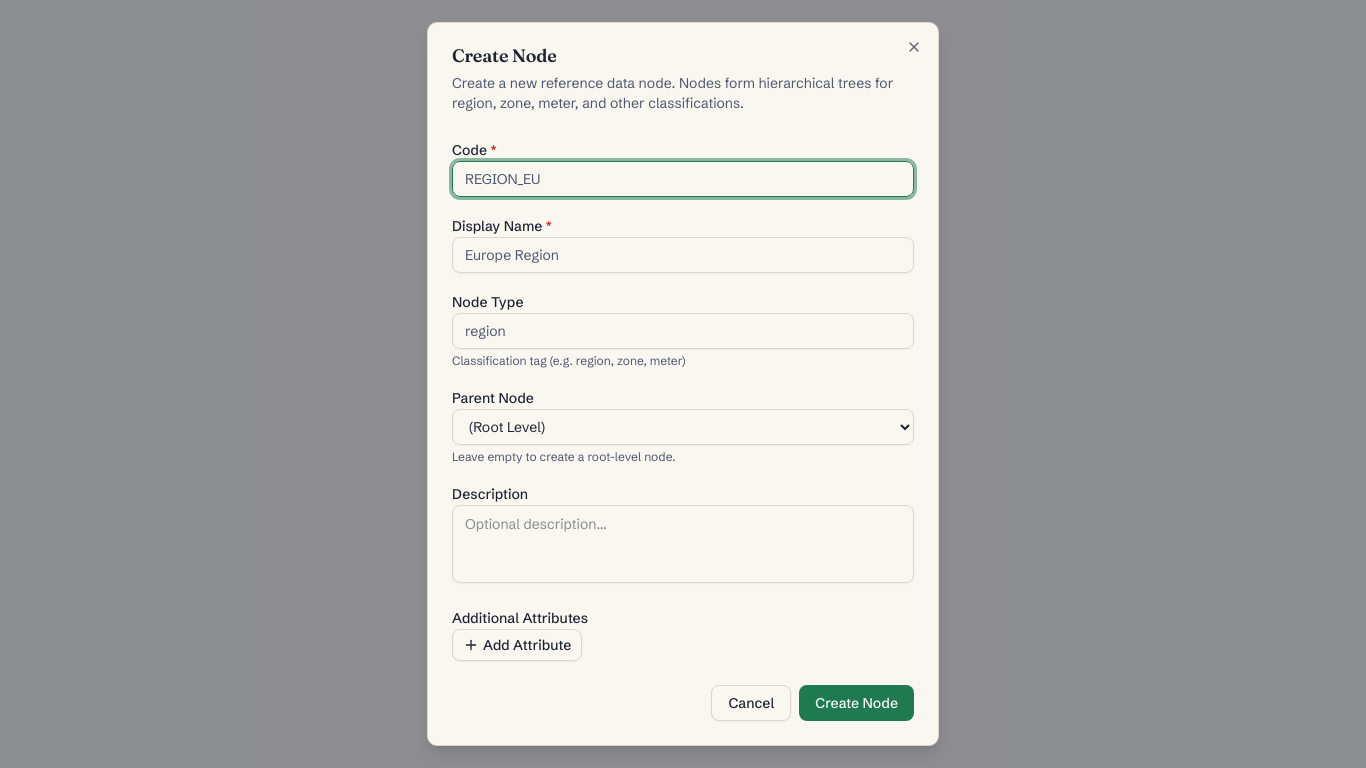
Test: CreateNodeDialog - validation › shows error when code is too short
This screenshot has width=1366, height=768.
Type "A" into the field labelled "Code *".
click(683, 179); type("A")  # box x1=452 y1=161 x2=914 y2=197
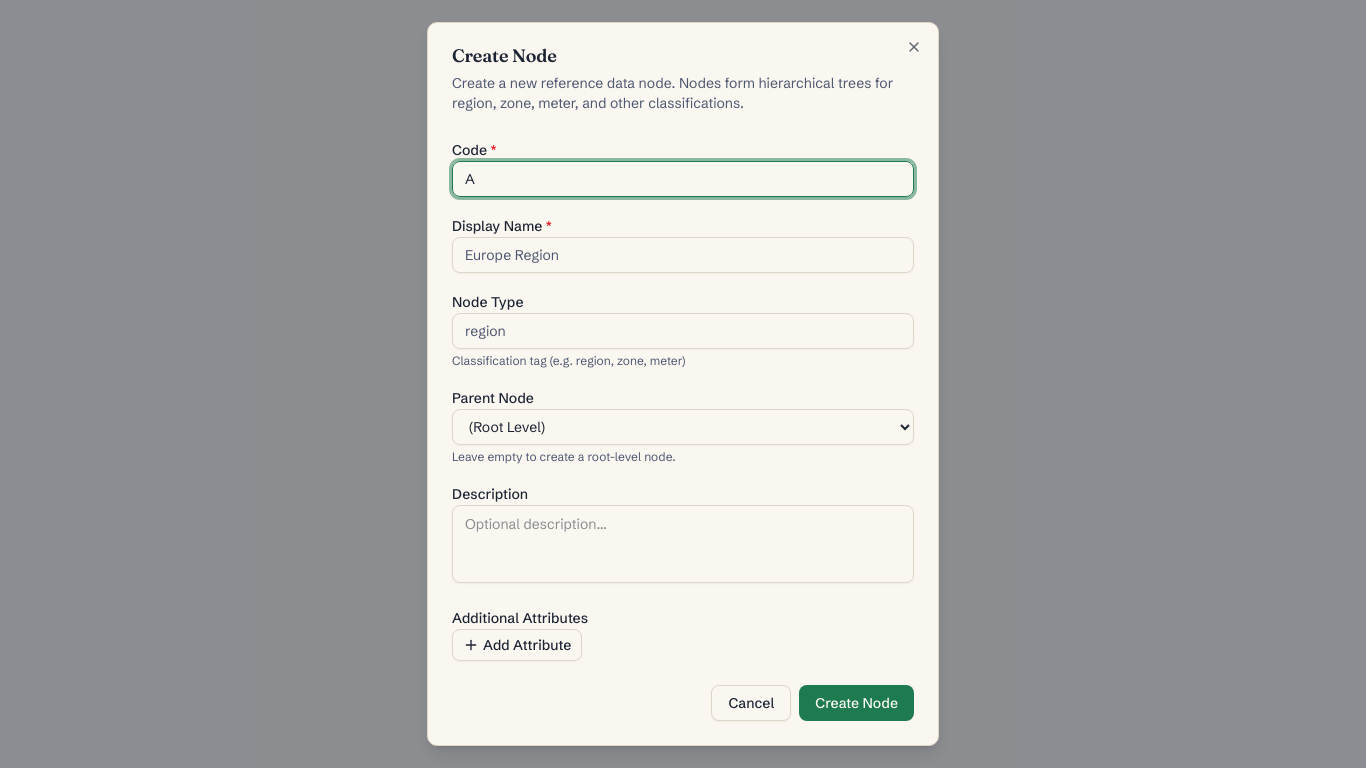
Click the button "Create Node".
click(857, 703)  # box x1=799 y1=685 x2=914 y2=721
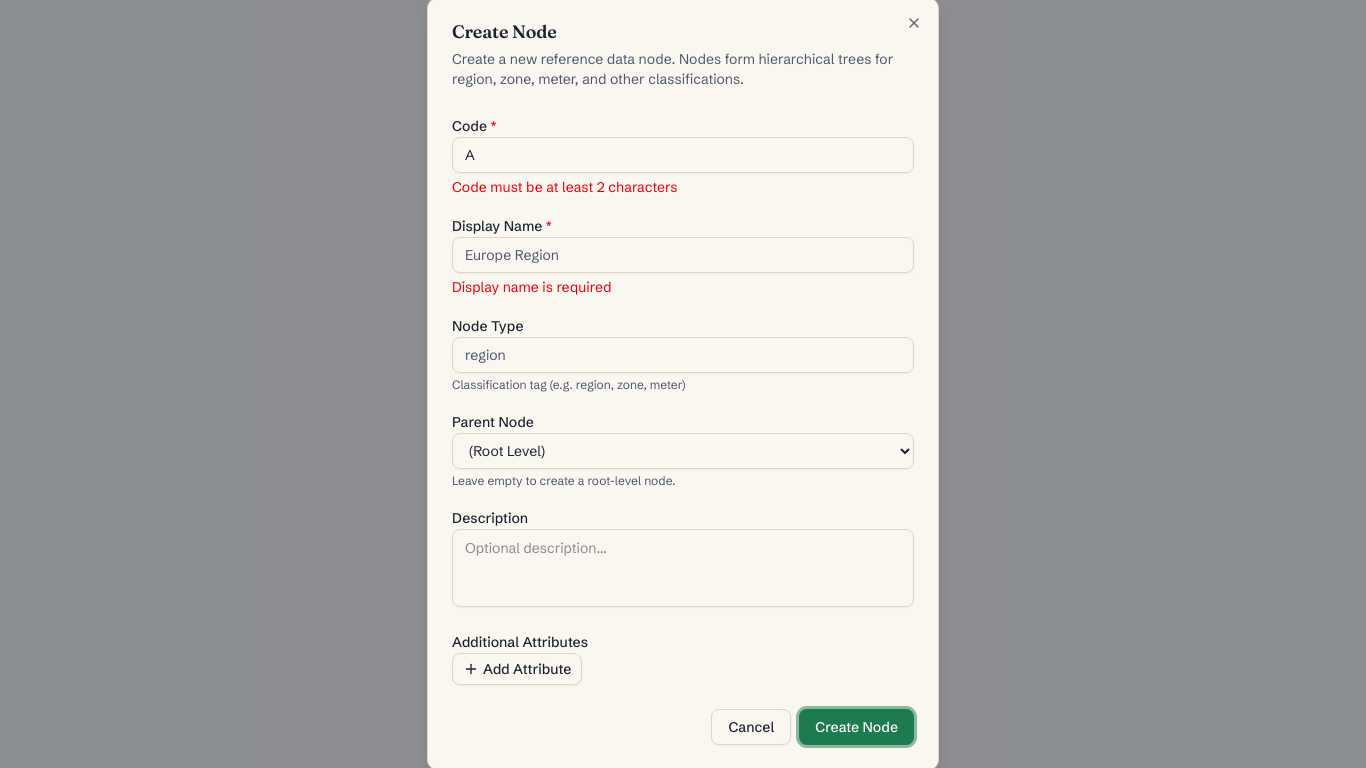
Expected: the text "Code must be at least 2 characters" is shown, x1=452 y1=178 x2=677 y2=196
